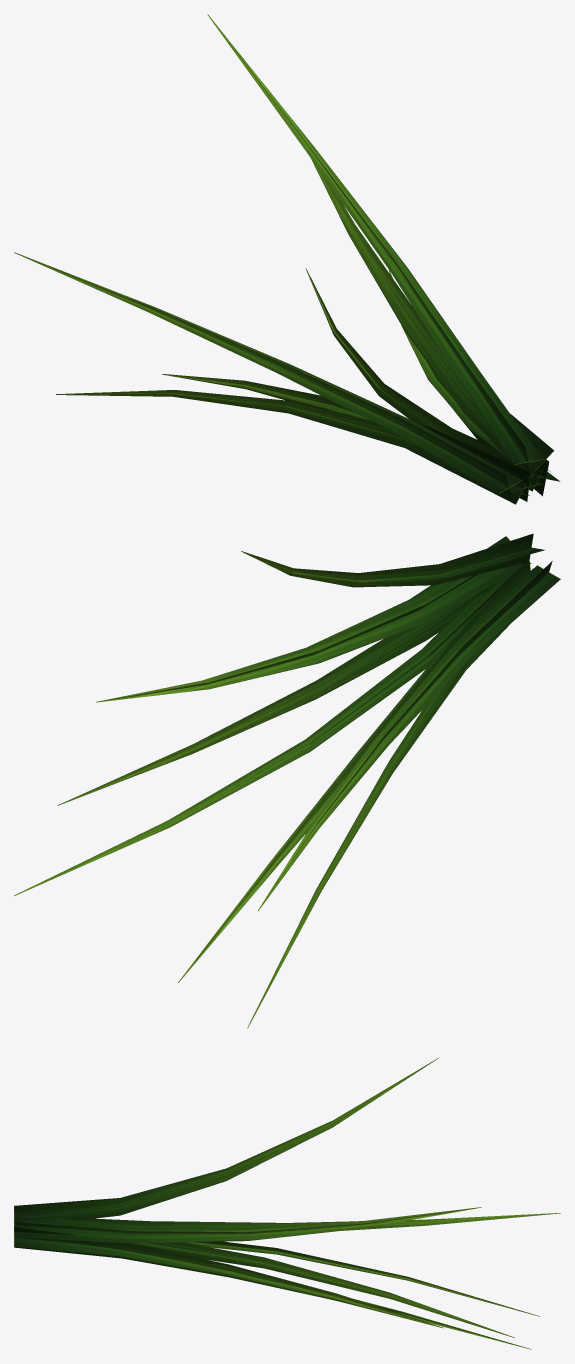
The model's file is GrassCustom.fbx.
3 views of the same model, one above another, from view 1: azimuth 30°, elevation 25°; view 2: azimuth 150°, elevation 25°; view 3: azimuth 270°, elevation 25° (orthographic). The views are drawn at different scales.
Visible parts, largest first — view 1: GrassCustom; view 2: GrassCustom; view 3: GrassCustom.
Boxes of the visible parts, left/top/right/bottom form: GrassCustom: left=14, top=14, right=560, bottom=504; GrassCustom: left=14, top=533, right=560, bottom=1028; GrassCustom: left=14, top=1057, right=560, bottom=1349.
Bounding box in the file's own units: 0.4521 × 0.6169 × 1.07.
